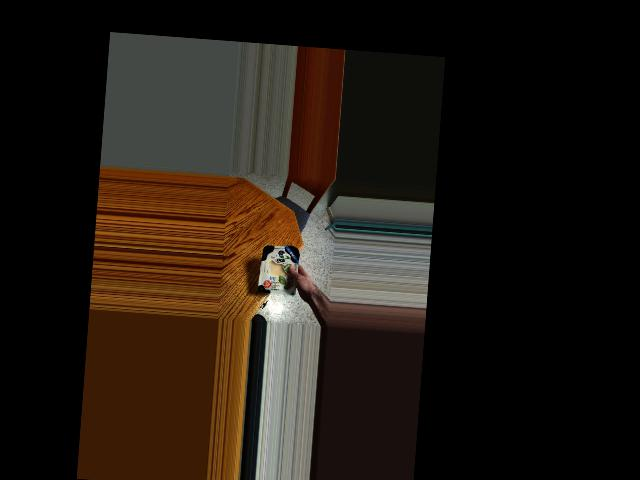cheese: (257, 232, 302, 306)
